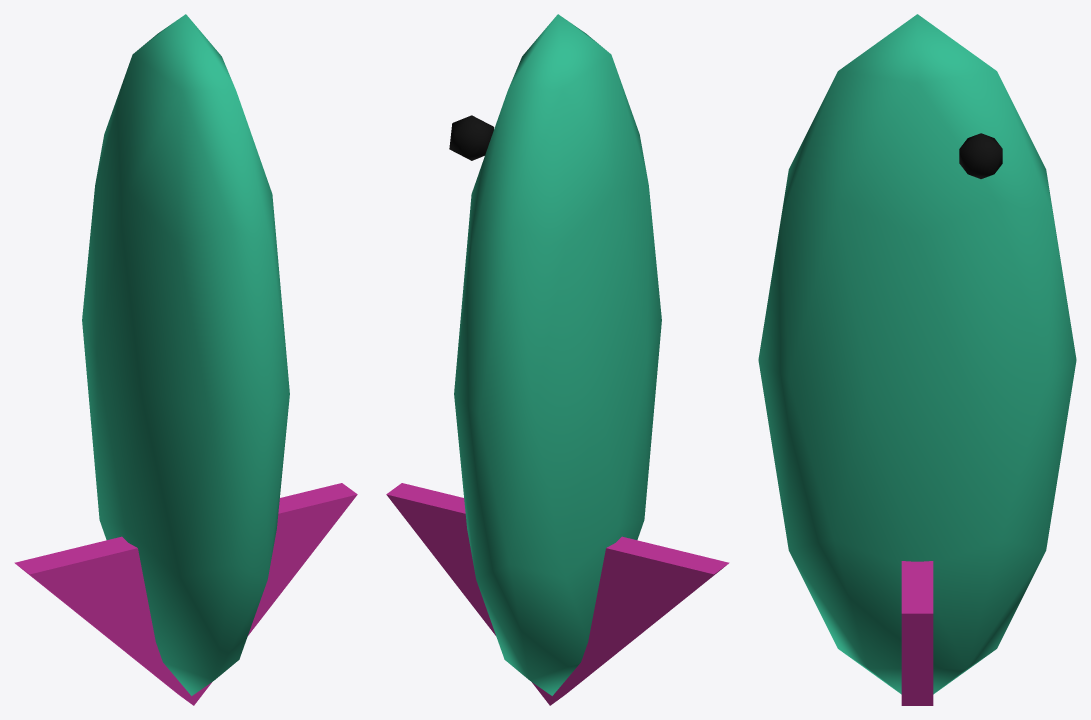
Rendered from jewelfish.glb.
3 views of the same model, side by side, from view 1: azimuth 30°, elevation 25°; view 2: azimuth 150°, elevation 25°; view 3: azimuth 270°, elevation 25° (orthographic).
Parts seen in each view (by area): view 1: jewelfish_v0; view 2: jewelfish_v0; view 3: jewelfish_v0.
Part boxes in pixels (box(x1,y1,x2,y2)): jewelfish_v0: box(14, 14, 357, 705); jewelfish_v0: box(386, 14, 729, 705); jewelfish_v0: box(758, 14, 1076, 705).
Size of the model in its own units: 0.12 by 0.24 by 0.1.
